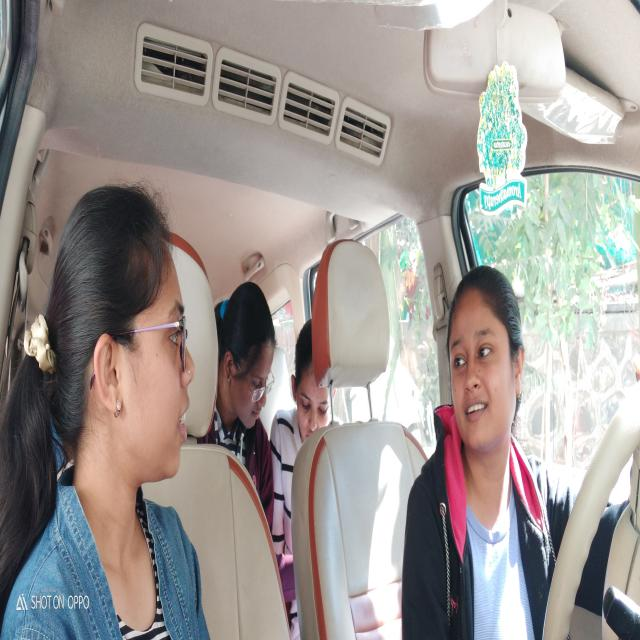LeftRight: (446, 265, 527, 458)
person: (55, 178, 196, 484), (219, 278, 276, 436), (291, 320, 336, 444)
talking: (174, 393, 193, 447), (463, 401, 490, 418)
